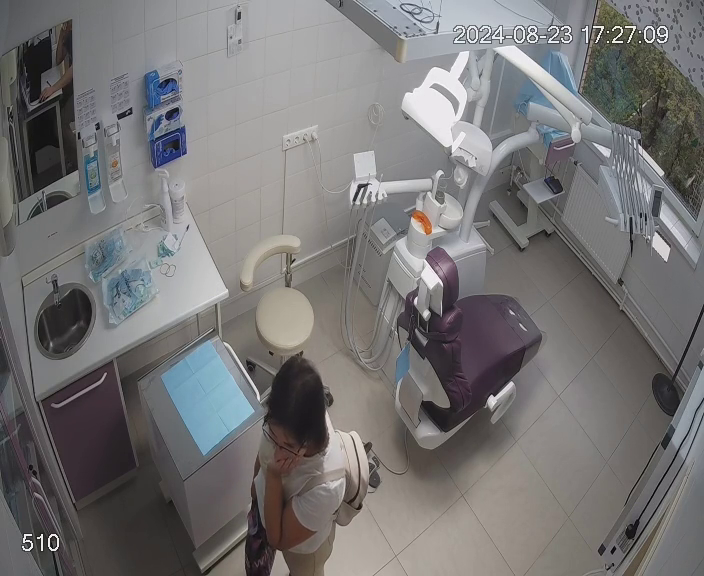Empty: (366, 248, 548, 453)
